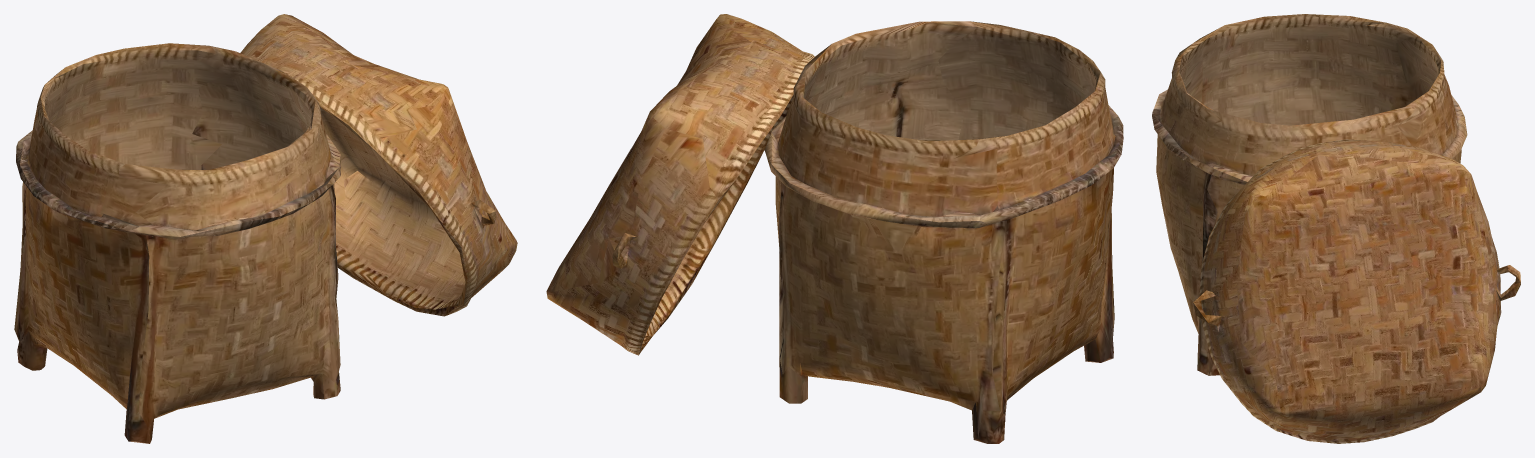
File: basket_lidded.glb
3 views of the same model, side by side, from view 1: azimuth 30°, elevation 25°; view 2: azimuth 150°, elevation 25°; view 3: azimuth 270°, elevation 25° (orthographic). The views are drawn at different scales.
Visible parts, largest first — view 1: basket_lidded; view 2: basket_lidded; view 3: basket_lidded.
Part boxes in pixels (x1,y1,x2,y2): basket_lidded: [14, 14, 517, 443]; basket_lidded: [546, 14, 1123, 443]; basket_lidded: [1152, 14, 1520, 443].
Size of the model in its own units: 0.6 by 0.3461 by 0.4386.
Materials: 1 (1 with a texture image).
